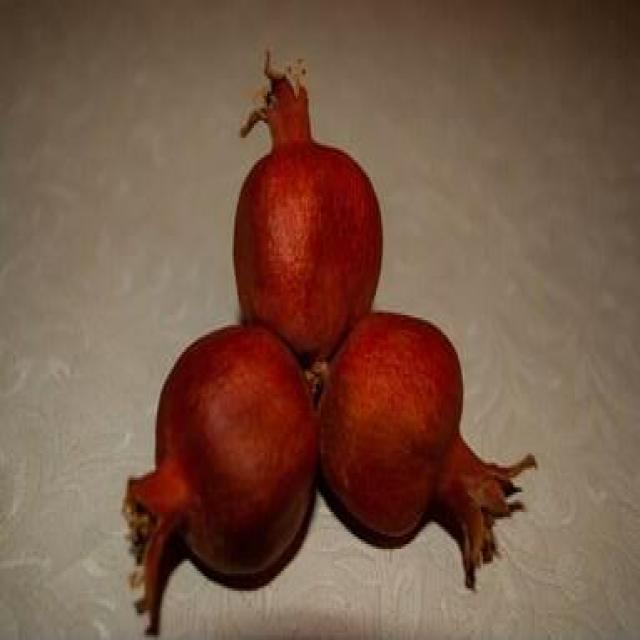Pomegranate: (126, 326, 321, 638), (324, 312, 537, 594), (232, 56, 384, 328)
